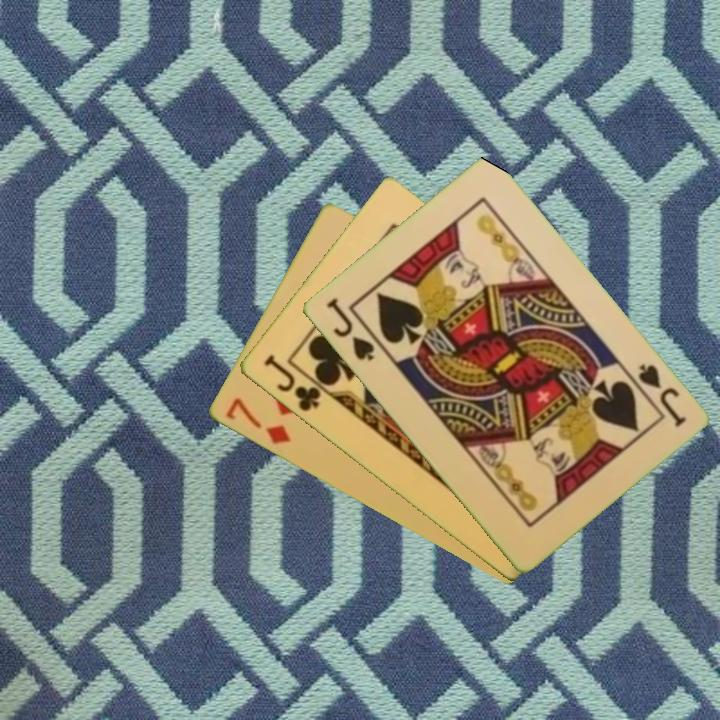7d: (221, 394, 293, 448)
Jc: (259, 351, 324, 415)
Js: (322, 294, 377, 364), (634, 360, 688, 430)
